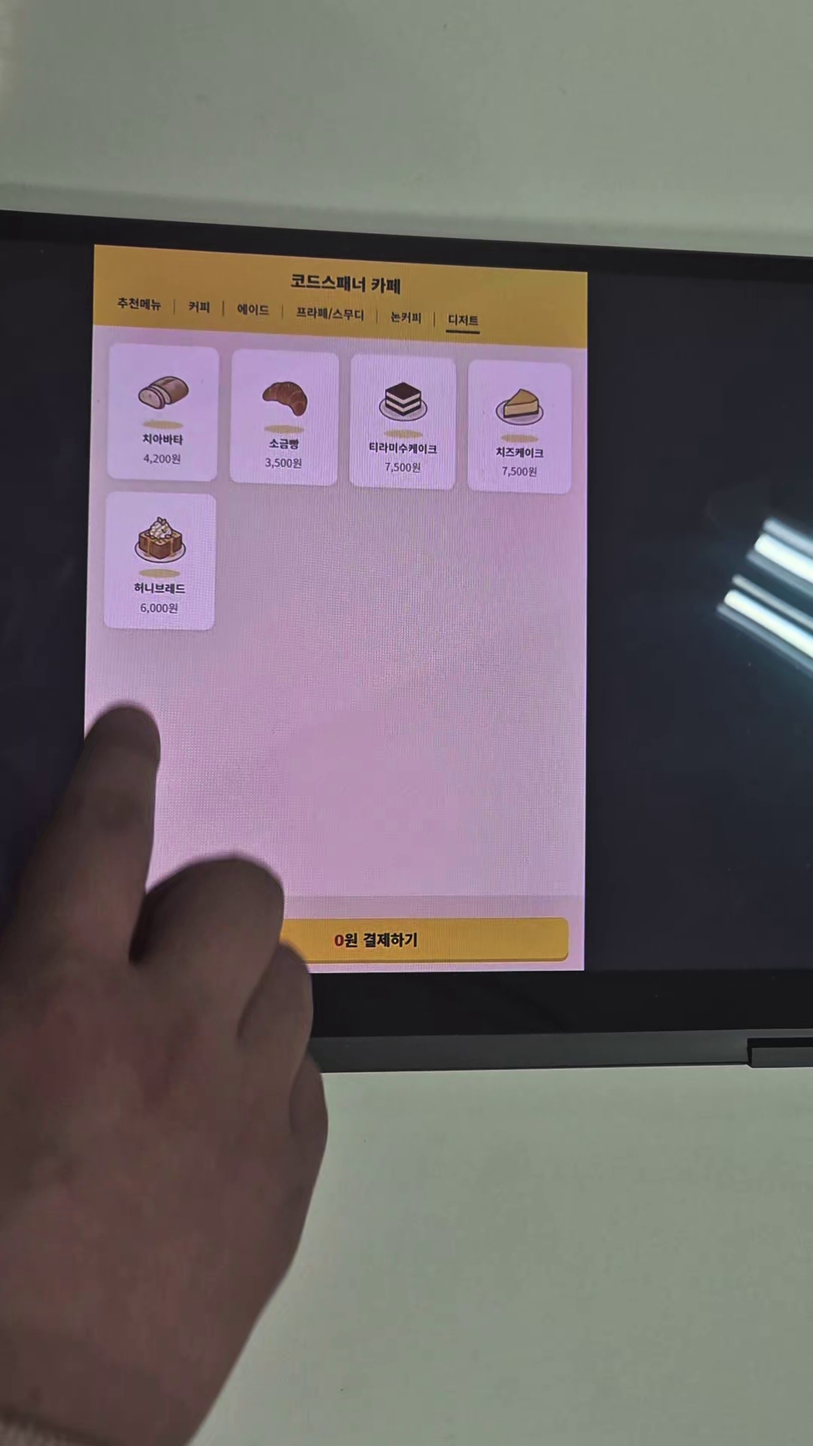action_button: (109, 918, 566, 965)
category_tab: (297, 307, 363, 319), (118, 297, 161, 311), (237, 303, 270, 316), (391, 311, 422, 324), (449, 313, 478, 326), (188, 300, 210, 313)
menu_back: (105, 494, 216, 628), (110, 343, 217, 480), (231, 350, 339, 485), (351, 356, 457, 487), (468, 361, 569, 493)
menu_name: (368, 442, 438, 454), (495, 447, 545, 458), (134, 582, 184, 593), (142, 433, 184, 445), (269, 439, 299, 450)
menu_price: (265, 457, 302, 469), (143, 454, 180, 465), (501, 466, 538, 477), (140, 603, 177, 614), (384, 463, 421, 473)
